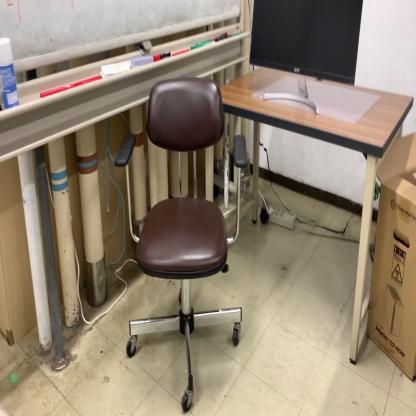chair: (112, 75, 252, 412)
